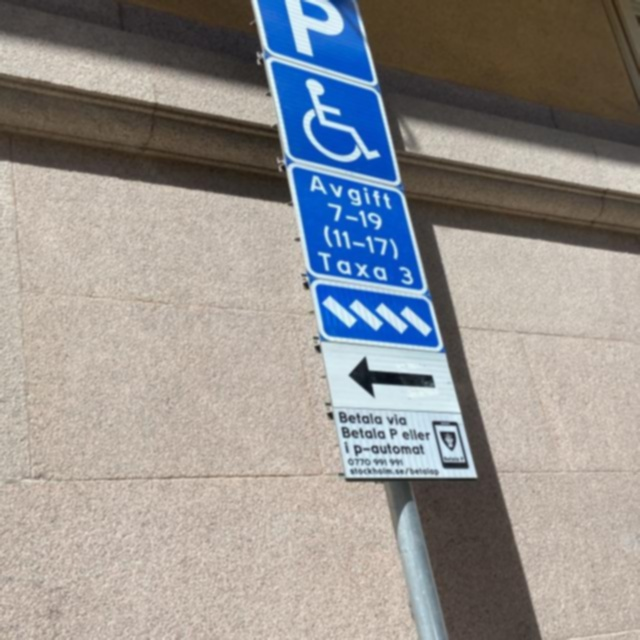P-skylt: (252, 0, 377, 89)
